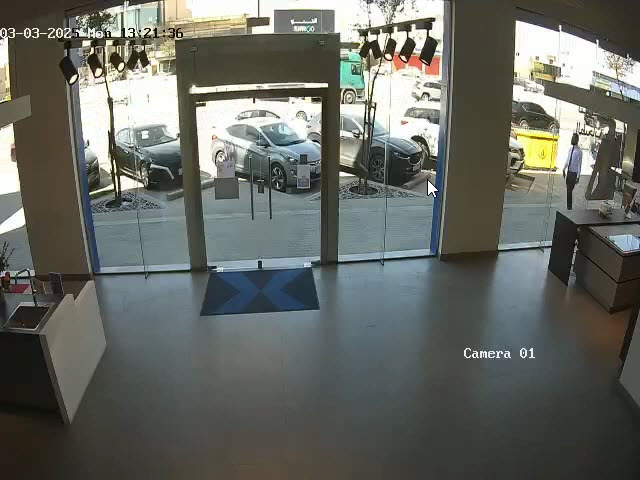employee: (562, 132, 583, 210)
